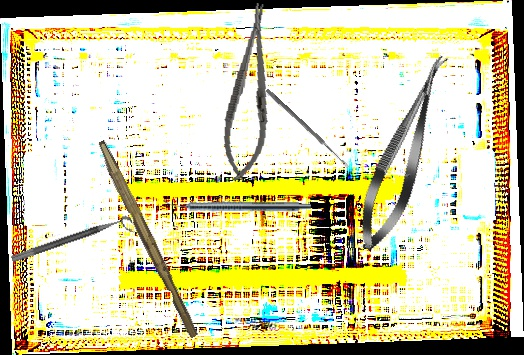Fixation Ring: (10, 214, 136, 273)
Handpiece: (163, 199, 311, 212)
Micro Scissor: (347, 48, 462, 257)
Needle Holder: (217, 0, 283, 184)
Scalpel Handle: (91, 139, 203, 340)
Surgical Spoon: (264, 88, 351, 169)
